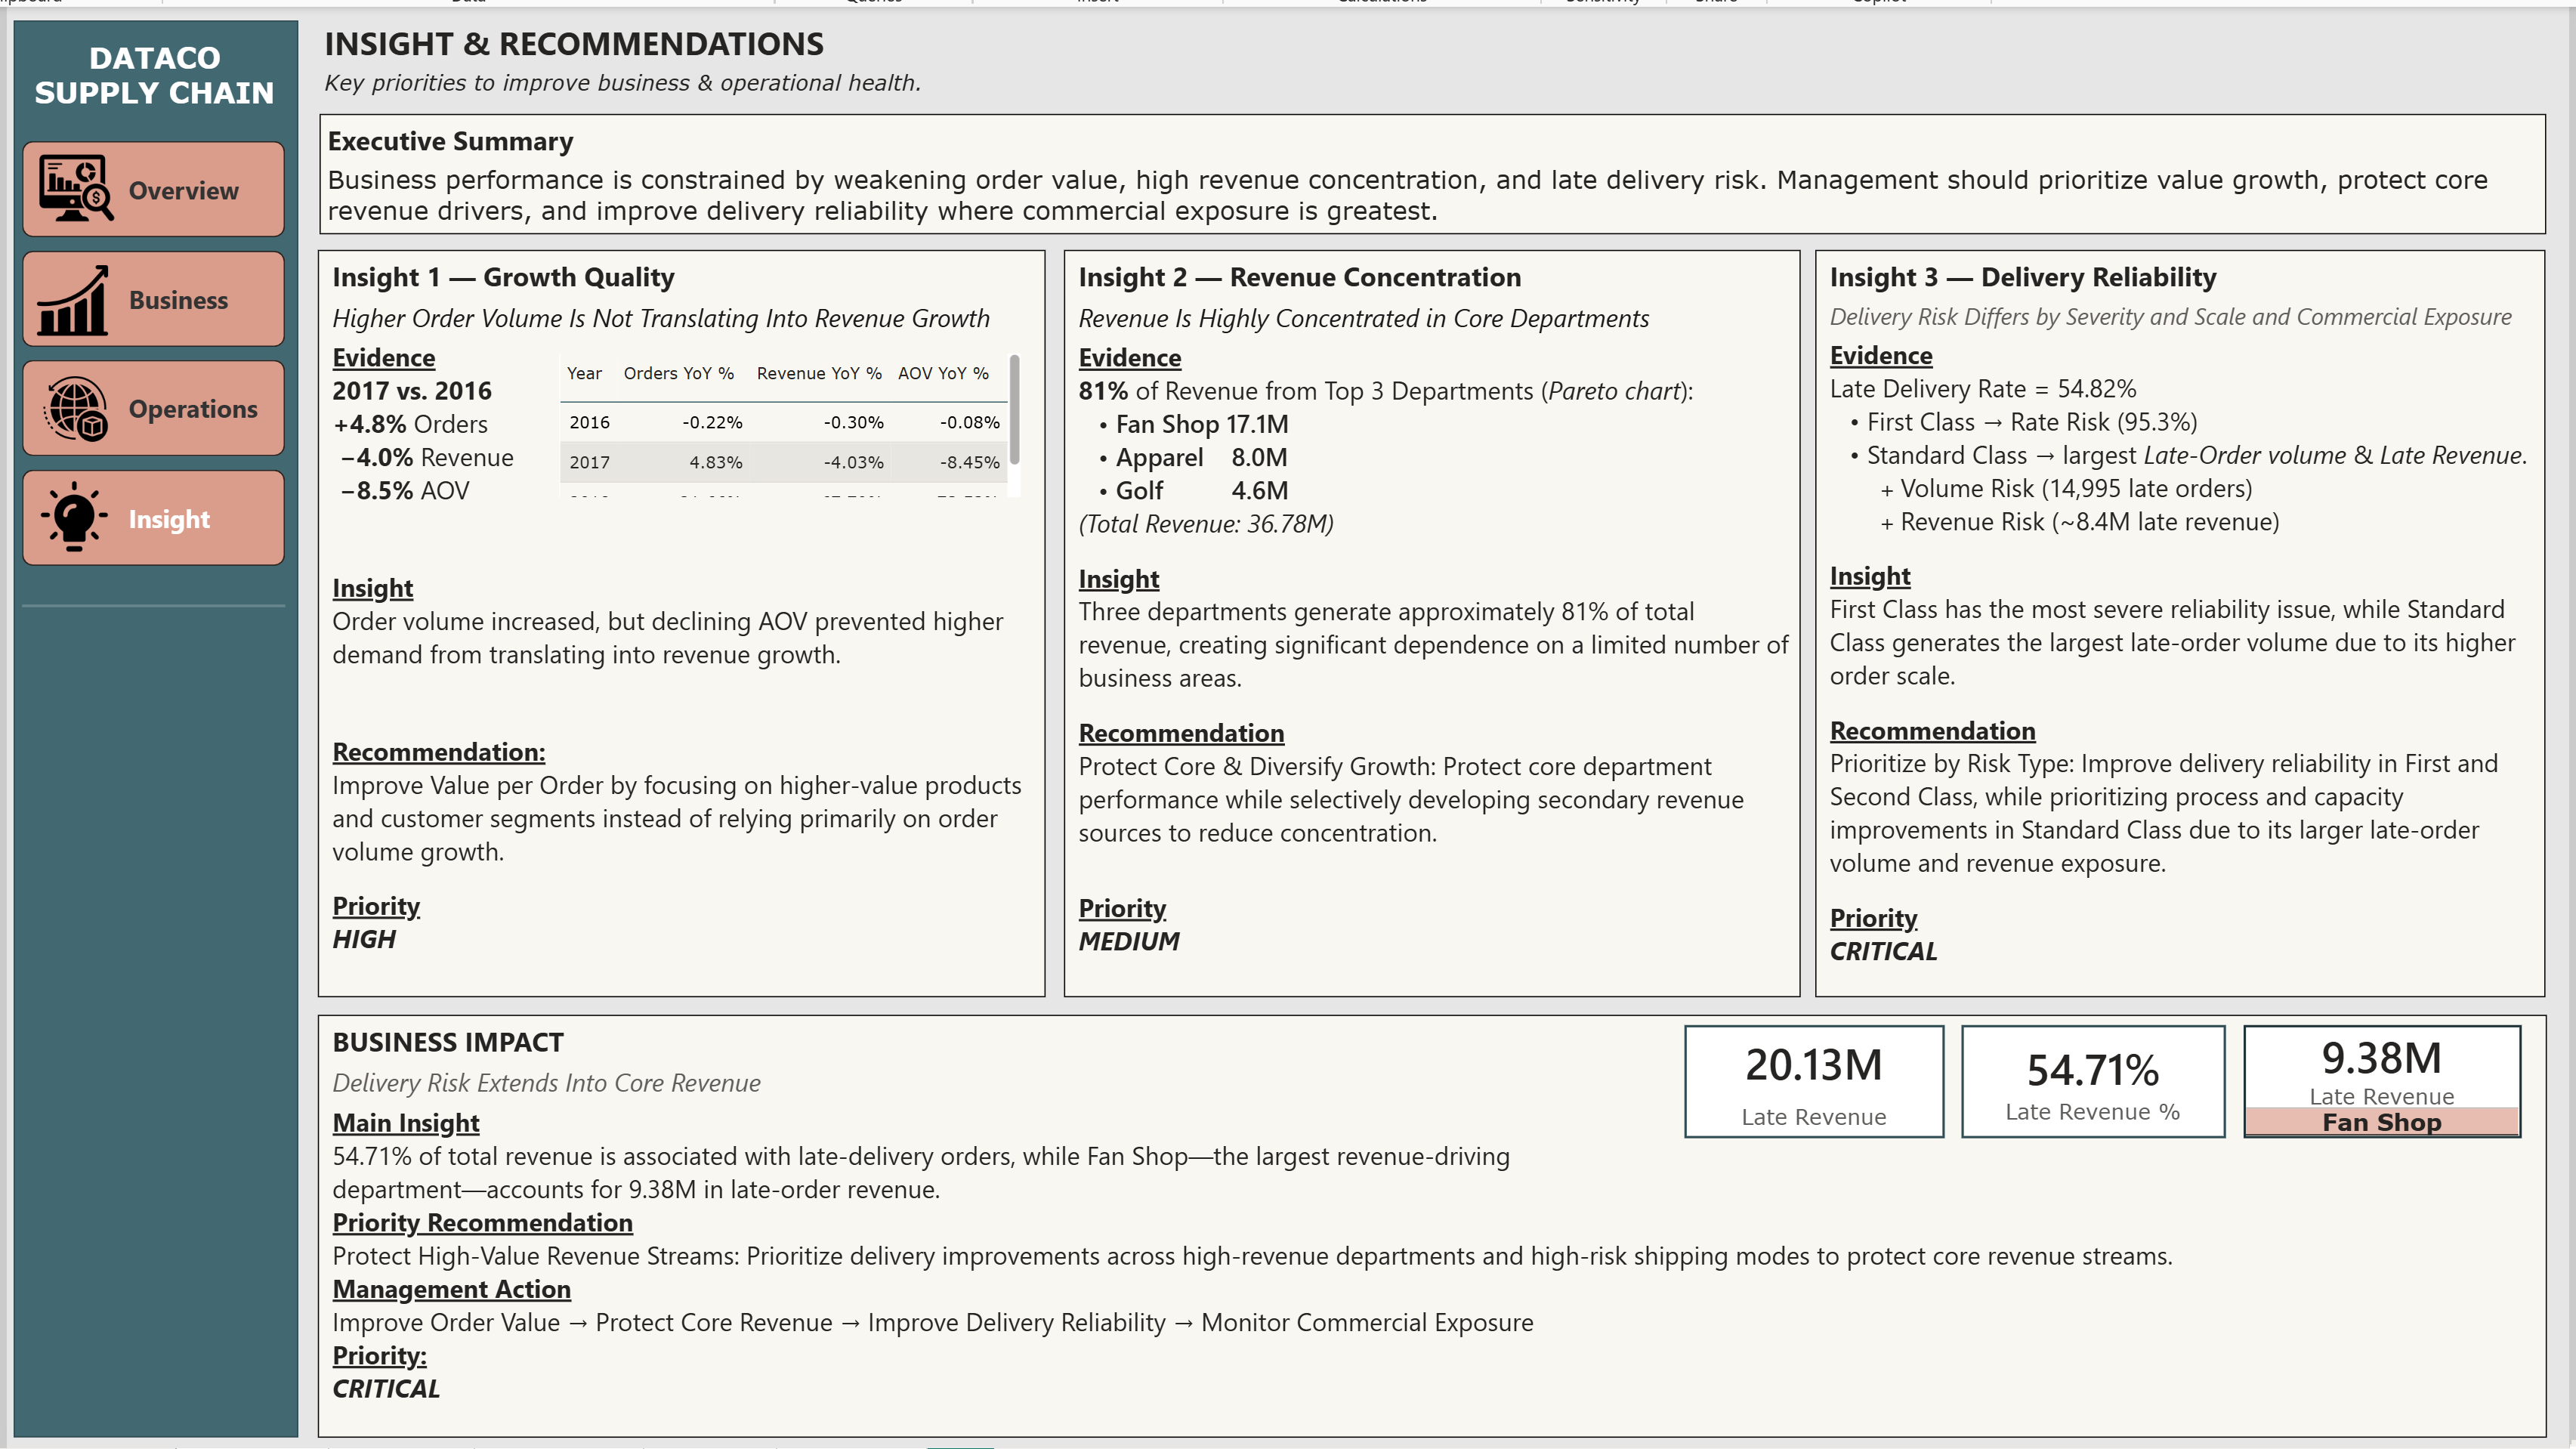

What the dashboard file says about the page in this screenshot:
{"tool":"powerbi","page":{"name":"Insight","canvas":[1920,1080],"ordinal":3},"visuals":[{"type":"shape","box":[5,10,213.3,1061.7],"z":0},{"type":"textbox","box":[2.1,20.8,216.8,79.2],"z":2000},{"type":"shape","box":[11.4,420,197.1,57.1],"z":4000},{"type":"textbox","title":"INSIGHT & RECOMMENDATIONS","box":[233.3,9.9,716.2,73.9],"z":5000},{"type":"pageNavigator","box":[11.1,100,197.2,319.4],"z":6000},{"type":"image","title":"Overview","box":[12.3,106.2,79.2,60],"z":7000},{"type":"image","title":"Overview","box":[11.5,193.8,75.4,53.1],"z":8000},{"type":"image","title":"Overview","box":[12.3,274.6,77.7,52.3],"z":9000},{"type":"image","title":"Overview","box":[10.8,353.8,80.8,55.4],"z":10000},{"type":"textbox","title":"Executive Summary","box":[233.8,80,1668.6,90],"z":11000},{"type":"textbox","title":"Insight 1 — Growth Quality","box":[233.3,182.3,545.4,560.2],"z":12000},{"type":"textbox","title":"Insight 2 — Revenue Concentration","box":[791.8,182.3,552,560.2],"z":13000},{"type":"textbox","title":"Insight 3 — Delivery Reliability","box":[1355.2,182.3,547,560.2],"z":14000},{"type":"textbox","title":"BUSINESS IMPACT ","box":[233.3,755,1670,316.7],"z":15000},{"type":"tableEx","fields":{"Values":["Dim_Date.Year","_Measure.Orders YoY %","_Measure.Revenue YoY %","_Measure.AOV YoY %"]},"box":[413.7,259.7,345.8,107.2],"z":16000},{"type":"cardVisual","fields":{"Data":["_Measure.Late Revenue"],"Rows":["Dim_Product.Department Name"]},"box":[1676.7,763.3,208.3,85],"z":18000},{"type":"cardVisual","fields":{"Data":["_Measure.Late Revenue"]},"box":[1256.7,763.3,195,85],"z":19000},{"type":"cardVisual","fields":{"Data":["_Measure.Late Revenue %"]},"box":[1465,763.3,198.3,85],"z":20000}]}

Visuals, with their boxes on the page's 1920x1080 design canvas (x1, y1, x2, y2). These are canvas units, not pixel positions in the 2576x1449 screenshot, which may show the page scaled, cropped or inside an application window:
shape: <box>5,10,218,1072</box>
textbox: <box>2,21,219,100</box>
shape: <box>11,420,208,477</box>
"INSIGHT & RECOMMENDATIONS" textbox: <box>233,10,950,84</box>
pageNavigator: <box>11,100,208,419</box>
"Overview" image: <box>12,106,92,166</box>
"Overview" image: <box>12,194,87,247</box>
"Overview" image: <box>12,275,90,327</box>
"Overview" image: <box>11,354,92,409</box>
"Executive Summary" textbox: <box>234,80,1902,170</box>
"Insight 1 — Growth Quality" textbox: <box>233,182,779,742</box>
"Insight 2 — Revenue Concentration" textbox: <box>792,182,1344,742</box>
"Insight 3 — Delivery Reliability" textbox: <box>1355,182,1902,742</box>
"BUSINESS IMPACT " textbox: <box>233,755,1903,1072</box>
tableEx - Dim_Date.Year x _Measure.Orders YoY %: <box>414,260,760,367</box>
cardVisual - _Measure.Late Revenue x Dim_Product.Department Name: <box>1677,763,1885,848</box>
cardVisual - _Measure.Late Revenue: <box>1257,763,1452,848</box>
cardVisual - _Measure.Late Revenue %: <box>1465,763,1663,848</box>
